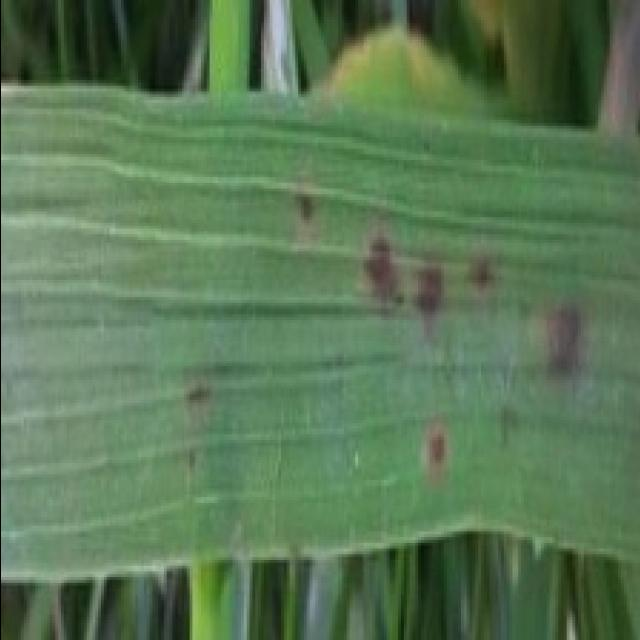Unhealthy: (358, 233, 405, 321), (538, 303, 585, 375), (407, 258, 447, 338), (422, 423, 448, 482), (466, 256, 499, 295), (497, 408, 518, 448), (181, 384, 215, 408), (295, 193, 317, 225), (182, 449, 199, 471)
